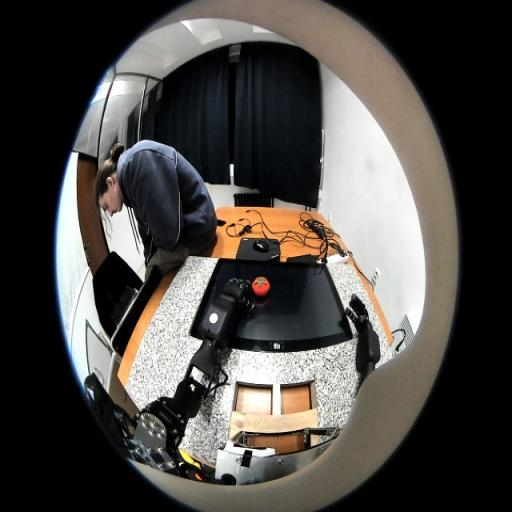LeftHand: (223, 282, 244, 294)
RightHand: (356, 313, 369, 330)
Tomato: (252, 276, 270, 297)
